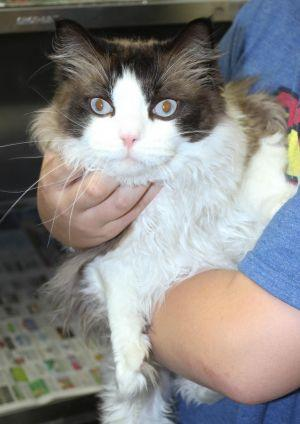ragdoll: (43, 10, 229, 186)
